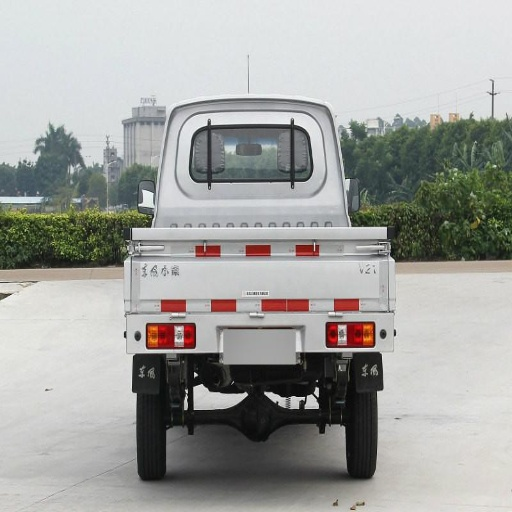trunk: (165, 204, 387, 343)
